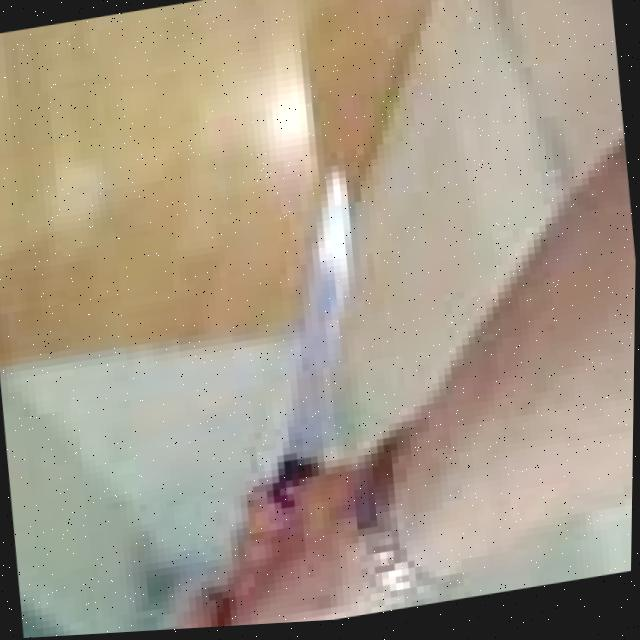knife: (180, 159, 376, 485)
